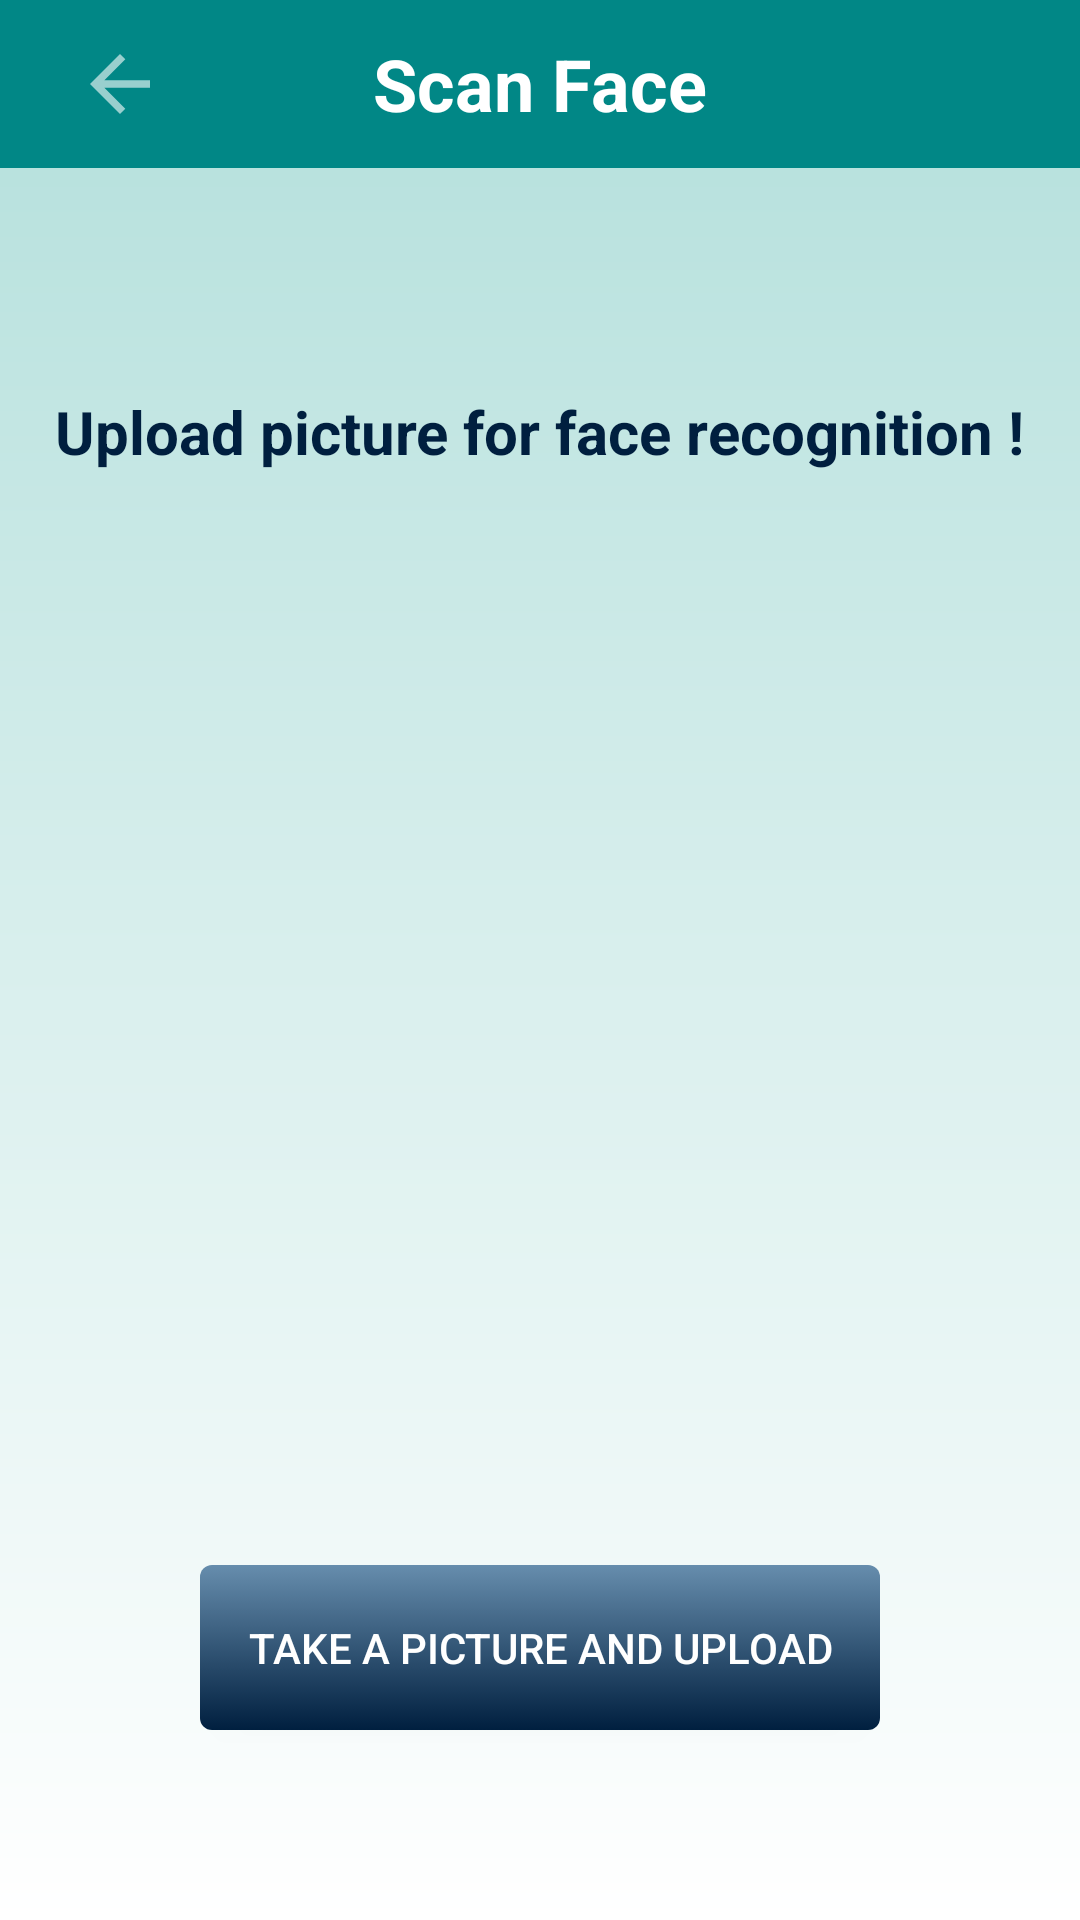

Locate icon controls on the screen. Image size 1080 x 1920, boxes as BBox(x1, y1, x2, y2).
Back Button: BBox(90, 54, 150, 114)
